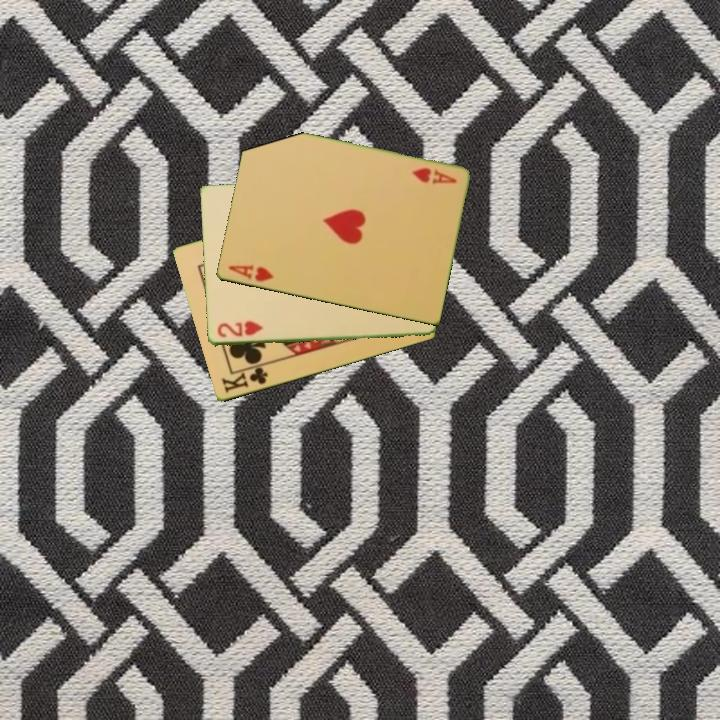2h: (213, 318, 266, 341)
Ah: (224, 261, 276, 285), (408, 164, 459, 187)
Kc: (218, 361, 271, 396)
